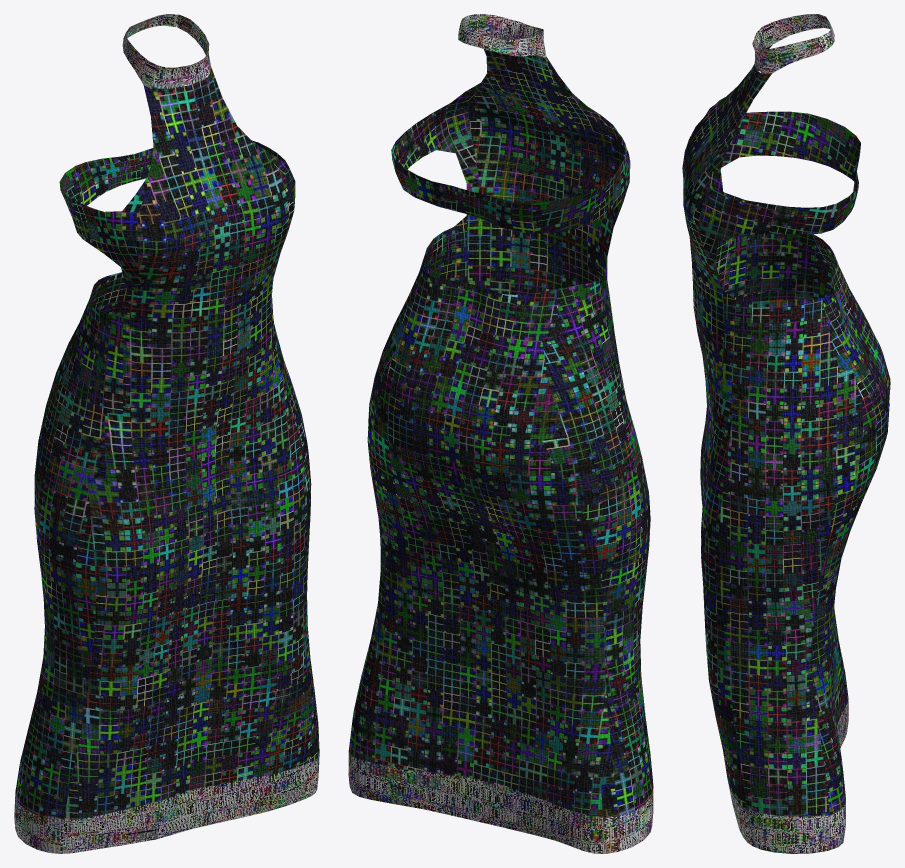
Rendered from elvs-simple-fashion-dress-1.glb.
3 views of the same model, side by side, from view 1: azimuth 30°, elevation 25°; view 2: azimuth 150°, elevation 25°; view 3: azimuth 270°, elevation 25° (orthographic). The views are drawn at different scales.
Visible parts, largest first — view 1: simple fashion dress; view 2: simple fashion dress; view 3: simple fashion dress.
Part boxes in pixels (bbox=[...]): simple fashion dress: bbox=[14, 14, 319, 853]; simple fashion dress: bbox=[348, 14, 653, 853]; simple fashion dress: bbox=[682, 14, 890, 853].
Size of the model in its own units: 43.44 by 114 by 28.15.
1 material, 1 textured.
